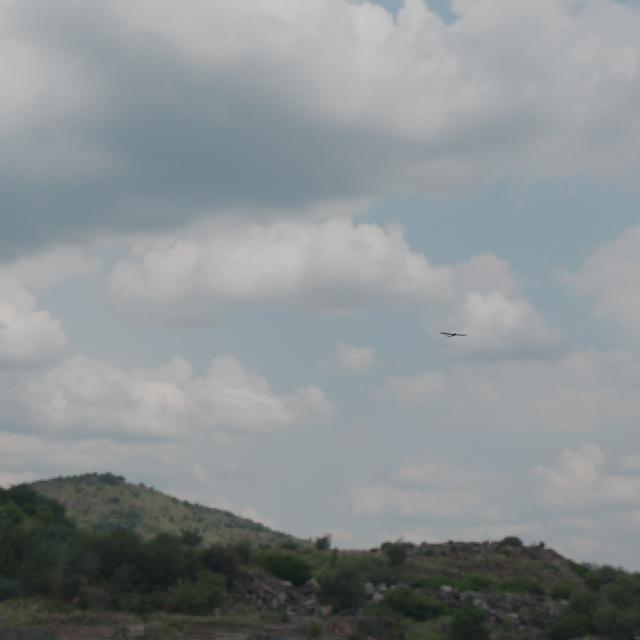Airaplan: (440, 332, 467, 338)
